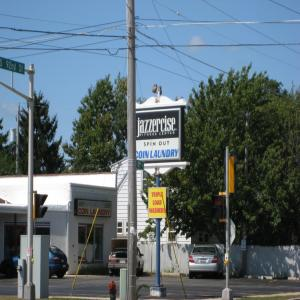Vehicle-registration-plate: (200, 259, 207, 265), (119, 261, 127, 265), (201, 261, 207, 263)
